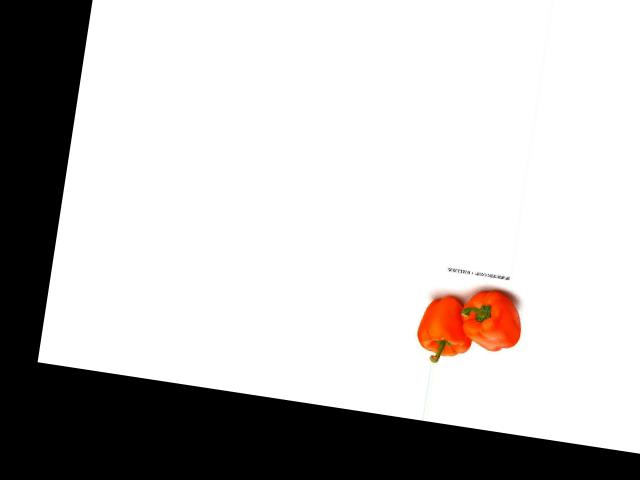bell_pepper: (453, 280, 528, 357)
